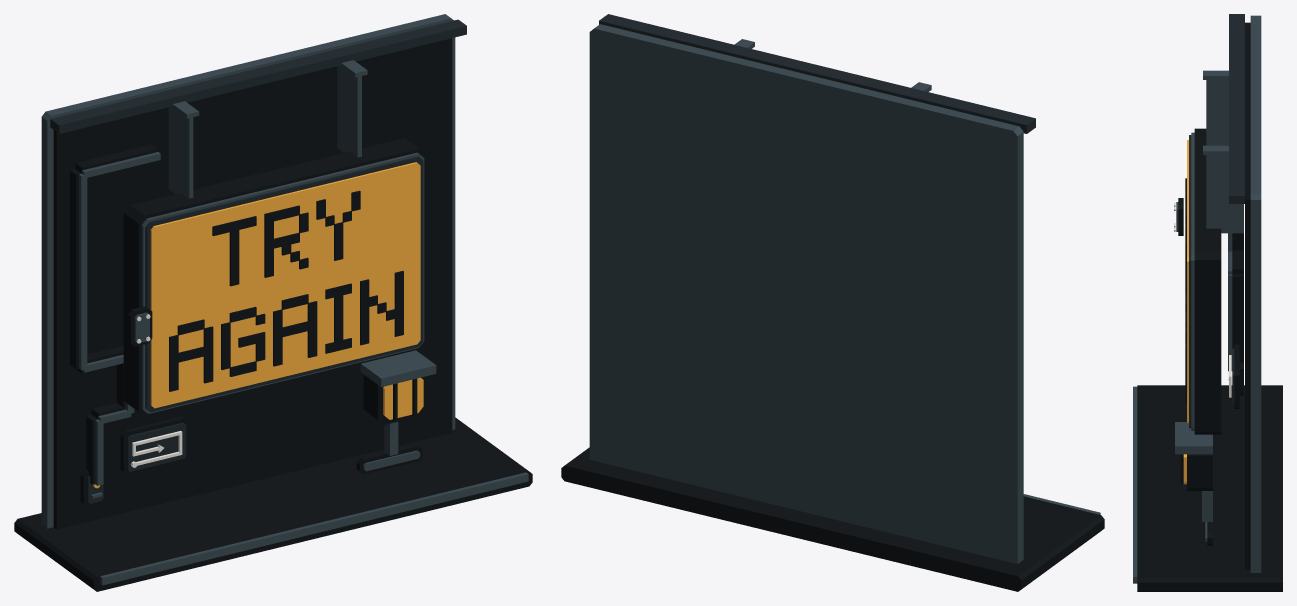
3 views of the same model, side by side, from view 1: azimuth 30°, elevation 25°; view 2: azimuth 150°, elevation 25°; view 3: azimuth 270°, elevation 25° (orthographic). The views are drawn at different scales.
Visible parts, largest first — view 1: Exit Liquidity sign; view 2: Exit Liquidity sign; view 3: Exit Liquidity sign.
Part boxes in pixels (<box>): Exit Liquidity sign: <box>14,14,532,591</box>; Exit Liquidity sign: <box>561,14,1104,591</box>; Exit Liquidity sign: <box>1133,14,1282,591</box>.
Size of the model in its own units: 1.08 by 1 by 0.3475.
